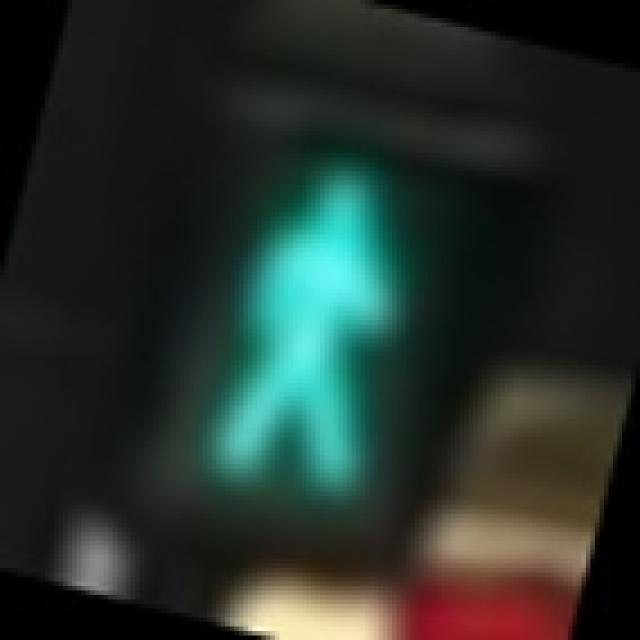geen-crossing: (122, 68, 510, 554)
